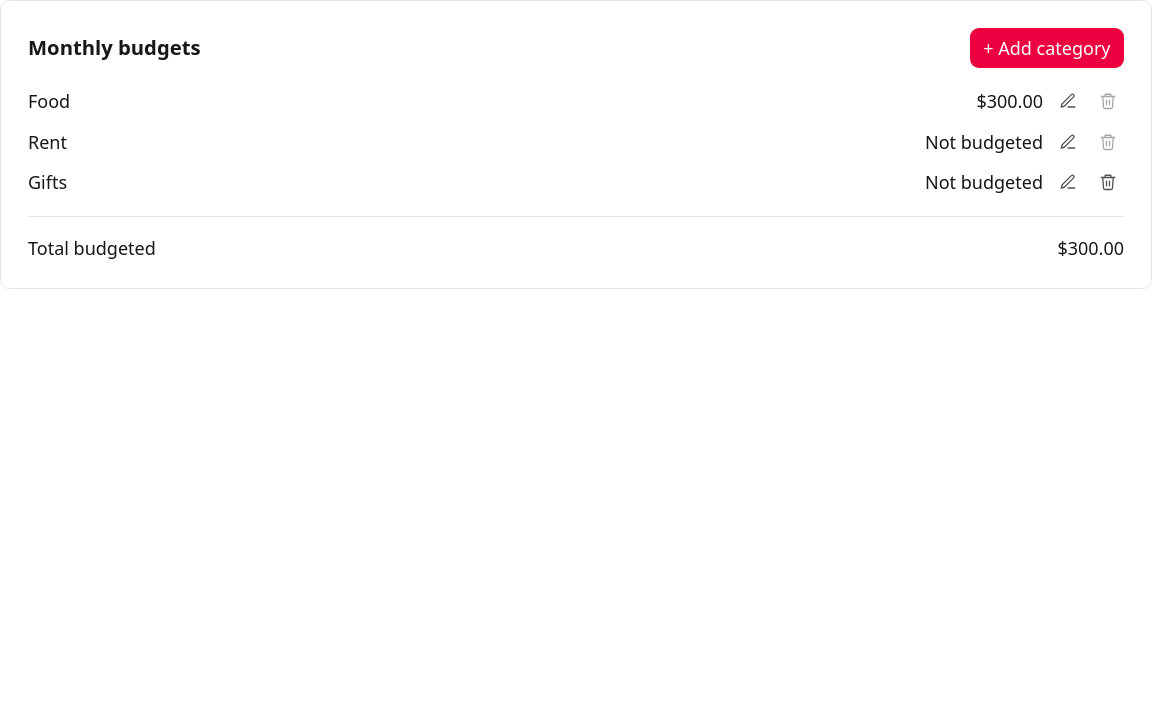
Test case: BudgetSetup › shows an inline error in the modal on save failure, without affecting other rows
Expected: the text "Rent" is shown, [28,129,67,155]
Click the button named "Edit budget" in the row of "Rent": (1068, 142) [1052,126,1084,158]
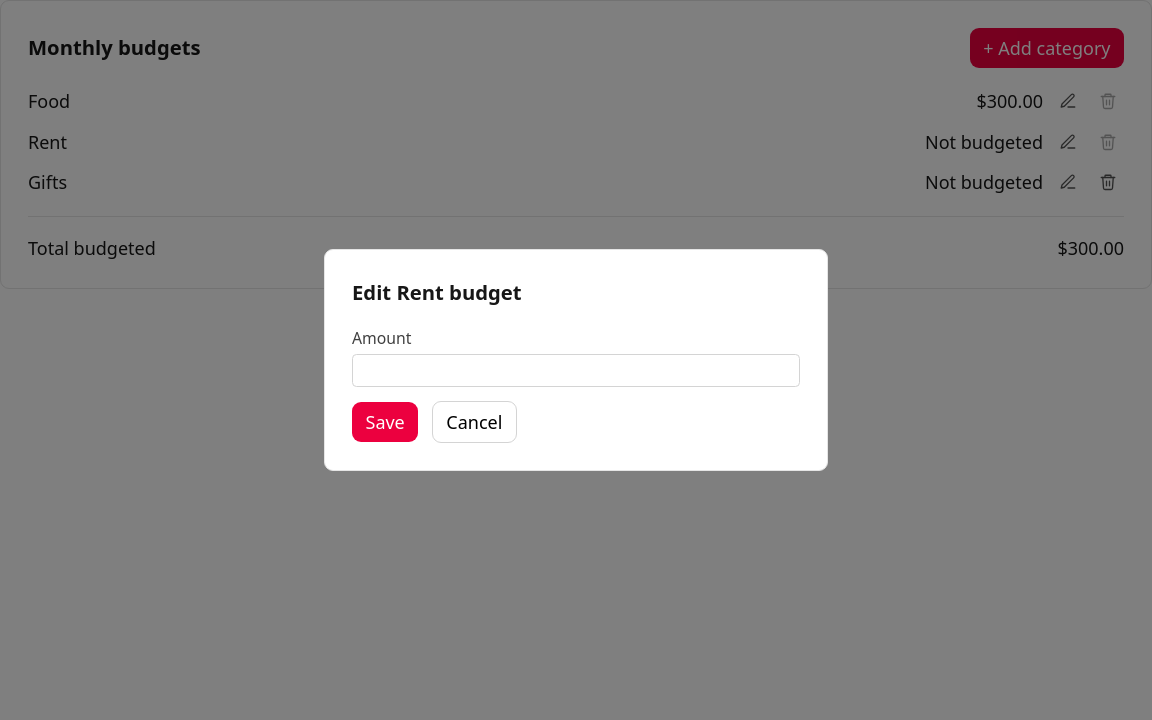
In the number field labelled "Amount": (576, 371) [352,354,800,388], type "1200"
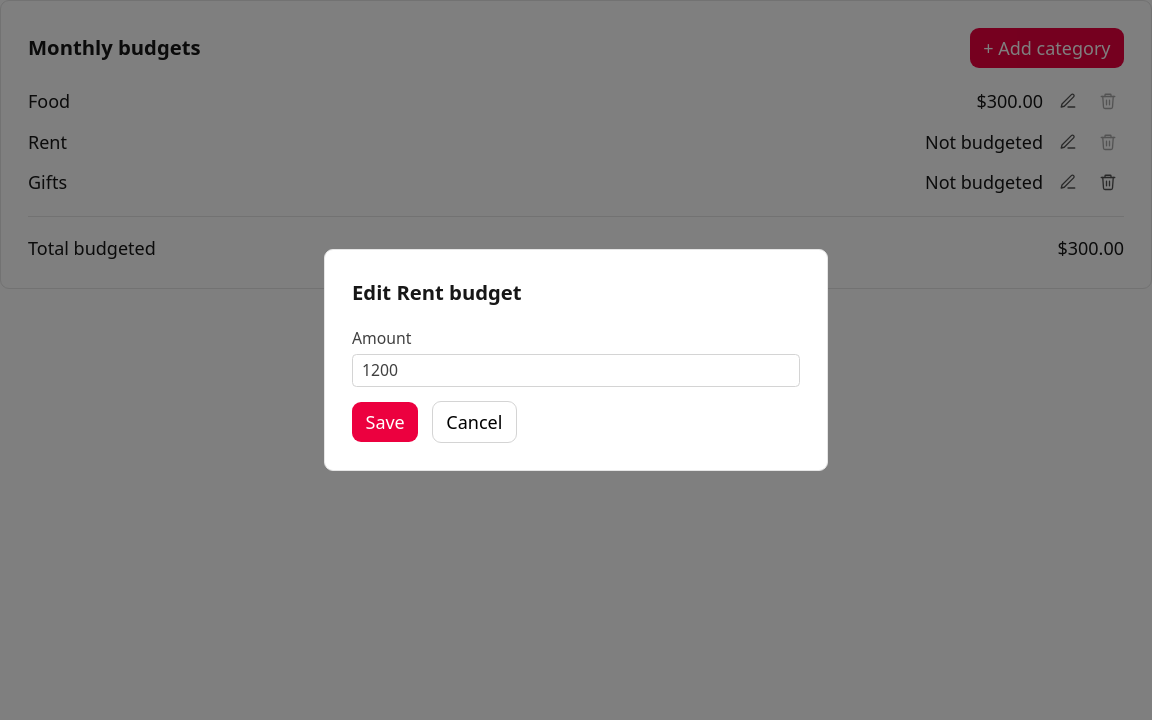
Click the button "Save": (385, 422) [352,402,418,442]
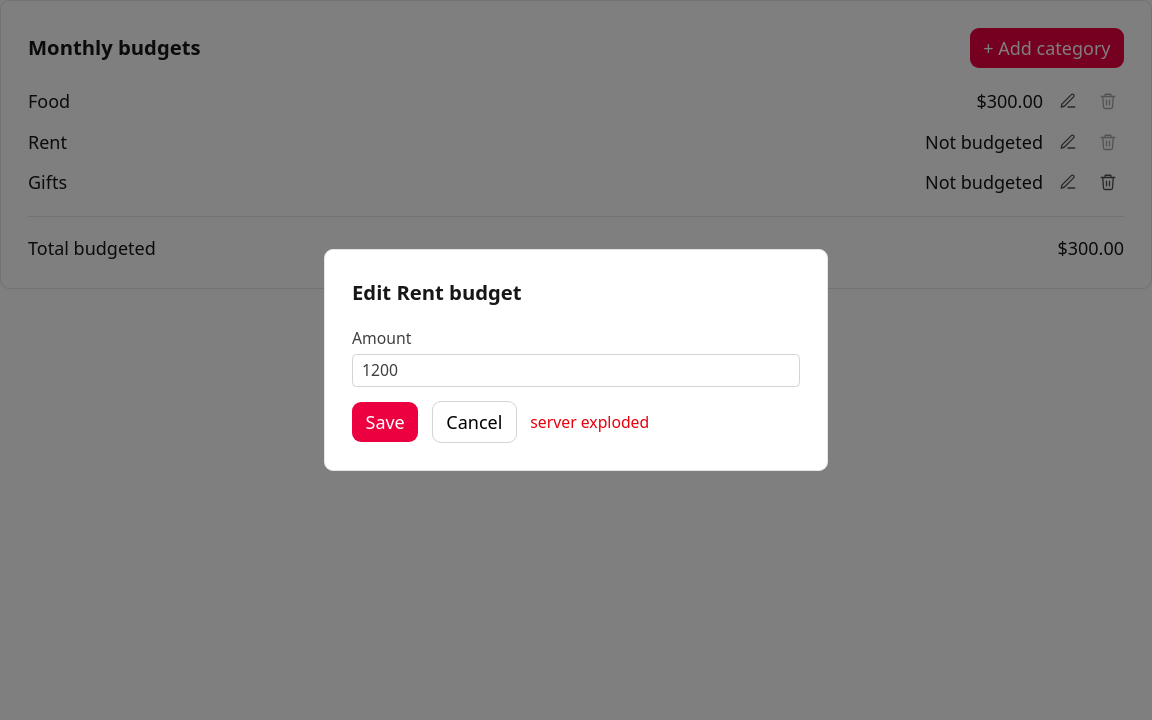
Expected: the text "$300.00" is shown, [976,89,1043,113]
Expected: the dialog is shown, [324,250,828,471]
Expected: the text "server exploded" is shown, [530,410,649,433]
